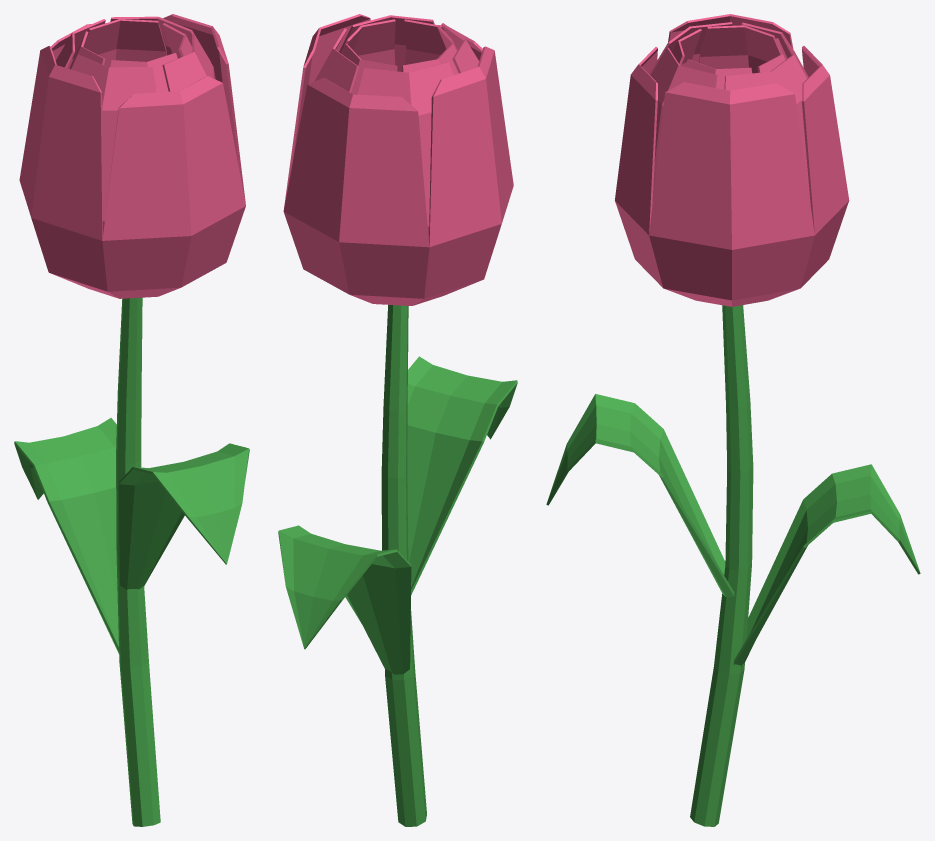
The model's file is flower_04.obj.
The picture shows the model from 3 angles, left to right: view 1: azimuth 30°, elevation 25°; view 2: azimuth 150°, elevation 25°; view 3: azimuth 270°, elevation 25°; orthographic projection.
Parts seen in each view (by area): view 1: Tulip_01_Circle.003; view 2: Tulip_01_Circle.003; view 3: Tulip_01_Circle.003.
Part boxes in pixels (<box>): Tulip_01_Circle.003: <box>14,14,249,826</box>; Tulip_01_Circle.003: <box>278,14,517,826</box>; Tulip_01_Circle.003: <box>546,14,920,826</box>.
Bounding box in the file's own units: 2.94 × 10.75 × 4.7.
